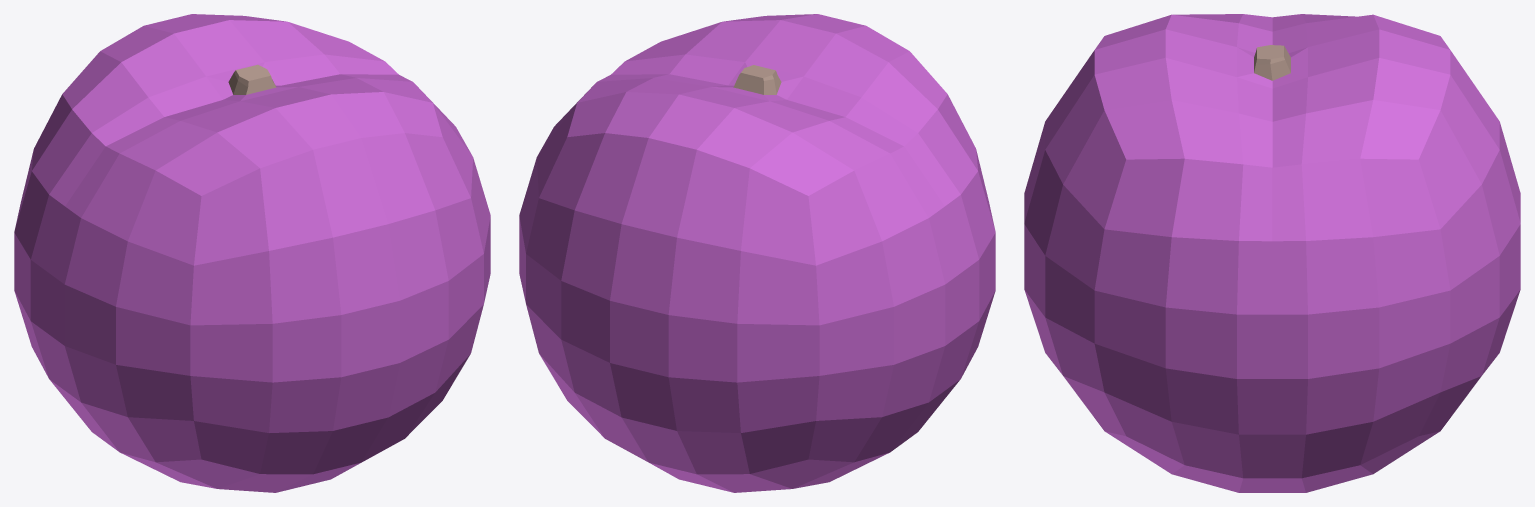
Rendered from Plum.glb.
3 views of the same model, side by side, from view 1: azimuth 30°, elevation 25°; view 2: azimuth 150°, elevation 25°; view 3: azimuth 270°, elevation 25° (orthographic). The views are drawn at different scales.
Parts seen in each view (by area): view 1: Roundcube.005_Roundcube.007; view 2: Roundcube.005_Roundcube.007; view 3: Roundcube.005_Roundcube.007.
Part boxes in pixels (x1,y1,x2,y2): Roundcube.005_Roundcube.007: (14, 14, 490, 492); Roundcube.005_Roundcube.007: (519, 14, 995, 492); Roundcube.005_Roundcube.007: (1024, 14, 1520, 492).
Bounding box in the file's own units: 9.8 × 9.22 × 9.8.
